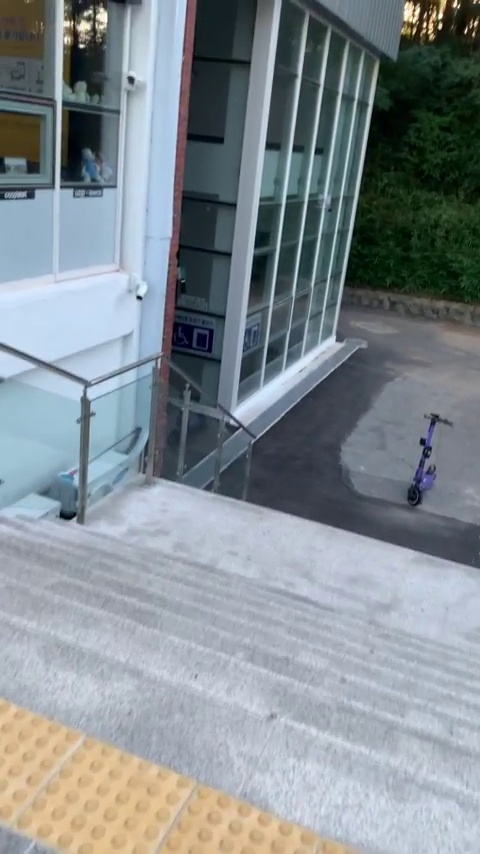beam: (400, 407, 455, 512)
